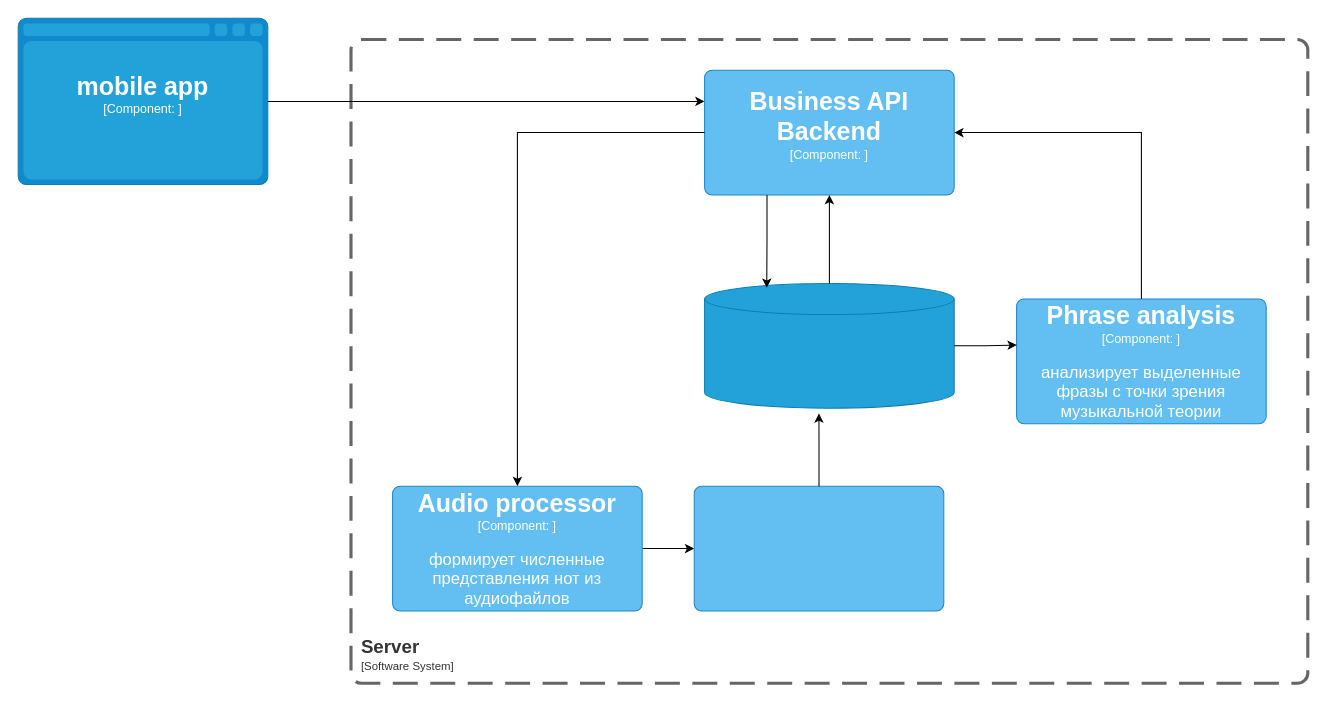
Some shapes in this 1327 by 703 pixel diagram are drawn without their labels. The centre of each missing label's shape, as x and y in pixels:
db [Component: ]: point 829,345
Phrase segmentation [Component: ] разделяет последовательность нот на фразы: point 818,548
